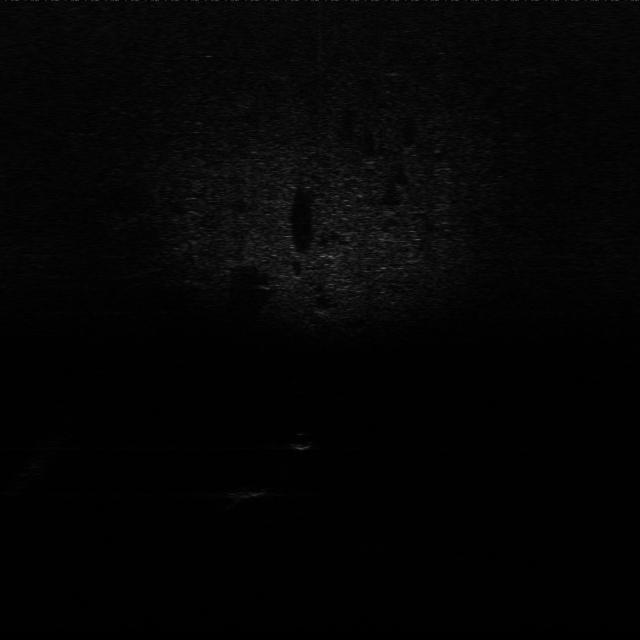ball: (288, 430, 316, 452)
square cage: (223, 481, 276, 506)
